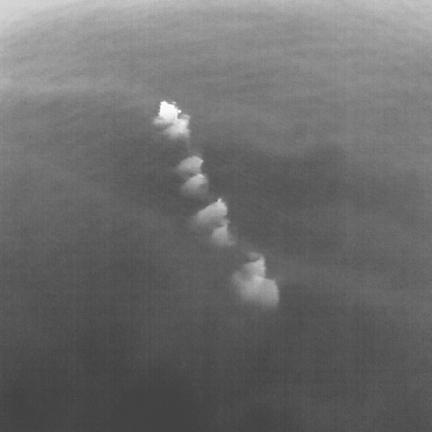flukeprints: (232, 257, 279, 306), (194, 198, 227, 224), (157, 101, 181, 124), (210, 224, 235, 246), (165, 117, 189, 138), (182, 174, 207, 194), (178, 155, 202, 173), (219, 218, 230, 225)
